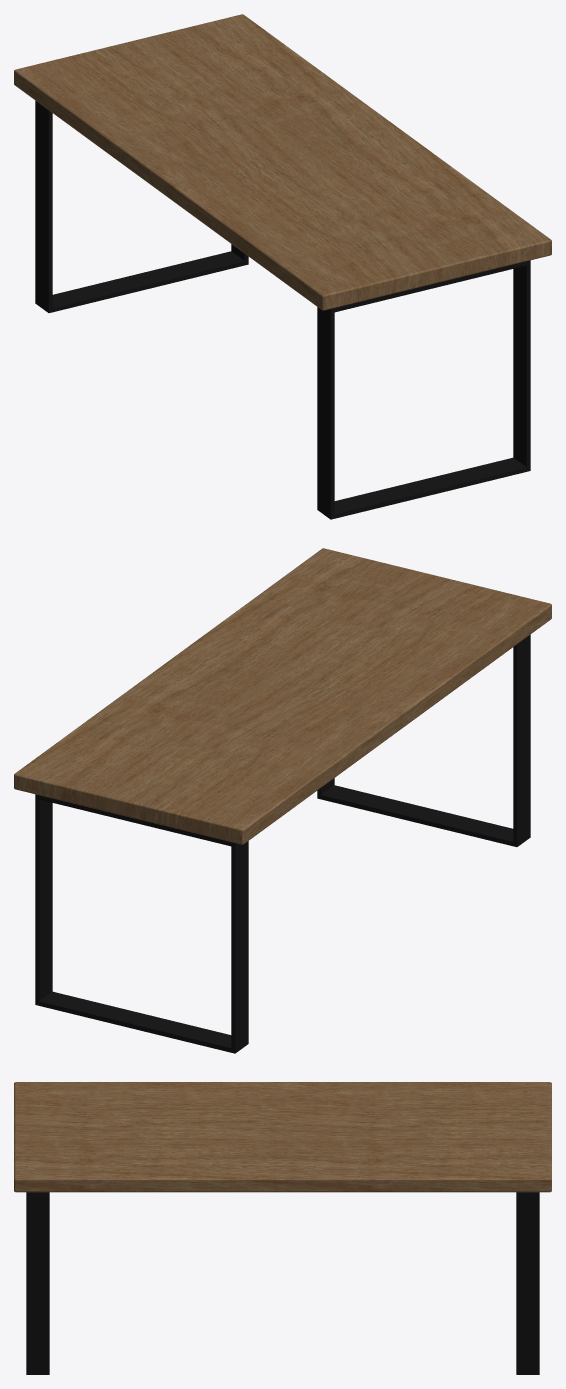
The model's file is dining_table.glb.
3 views of the same model, one above another, from view 1: azimuth 30°, elevation 25°; view 2: azimuth 150°, elevation 25°; view 3: azimuth 270°, elevation 25° (orthographic). The views are drawn at different scales.
Visible parts, largest first — view 1: Table top_1, Table legs_2; view 2: Table top_1, Table legs_2; view 3: Table top_1, Table legs_2.
Boxes of the visible parts, bbox=[...] form: Table top_1: bbox=[14, 14, 551, 310]; Table legs_2: bbox=[35, 100, 530, 519]; Table top_1: bbox=[14, 548, 551, 844]; Table legs_2: bbox=[35, 634, 530, 1053]; Table top_1: bbox=[14, 1082, 551, 1192]; Table legs_2: bbox=[26, 1192, 539, 1374].
Bounding box in the file's own units: 0.8009 × 0.7743 × 1.87.
2 materials, 1 textured.
